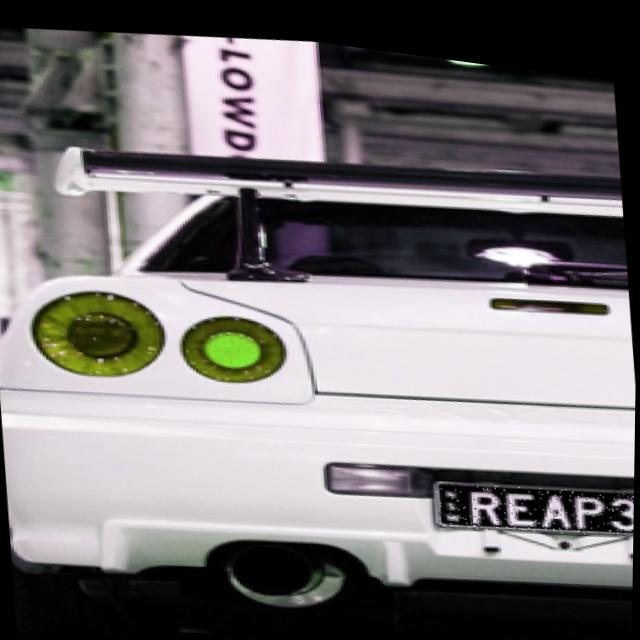license_plate: (436, 451, 635, 534)
